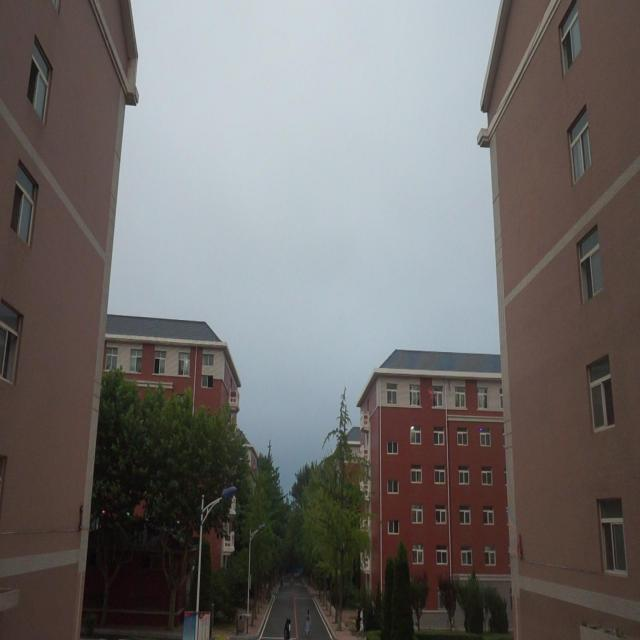UAV: (428, 391, 437, 398)
